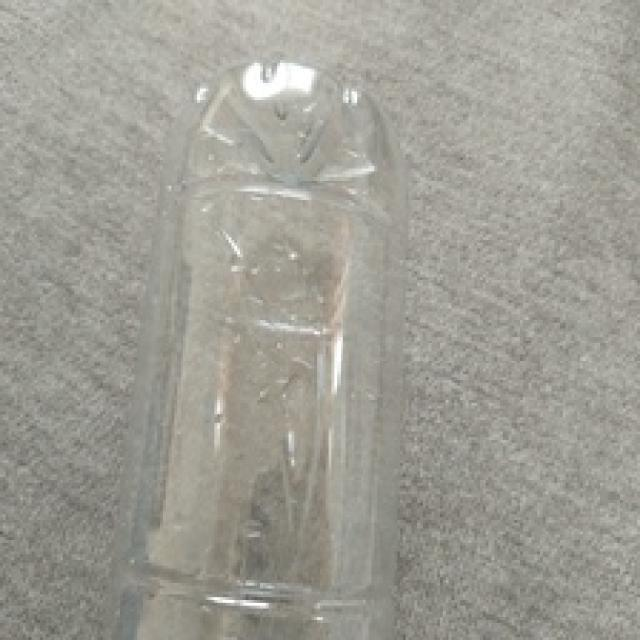good: (108, 51, 429, 640)
